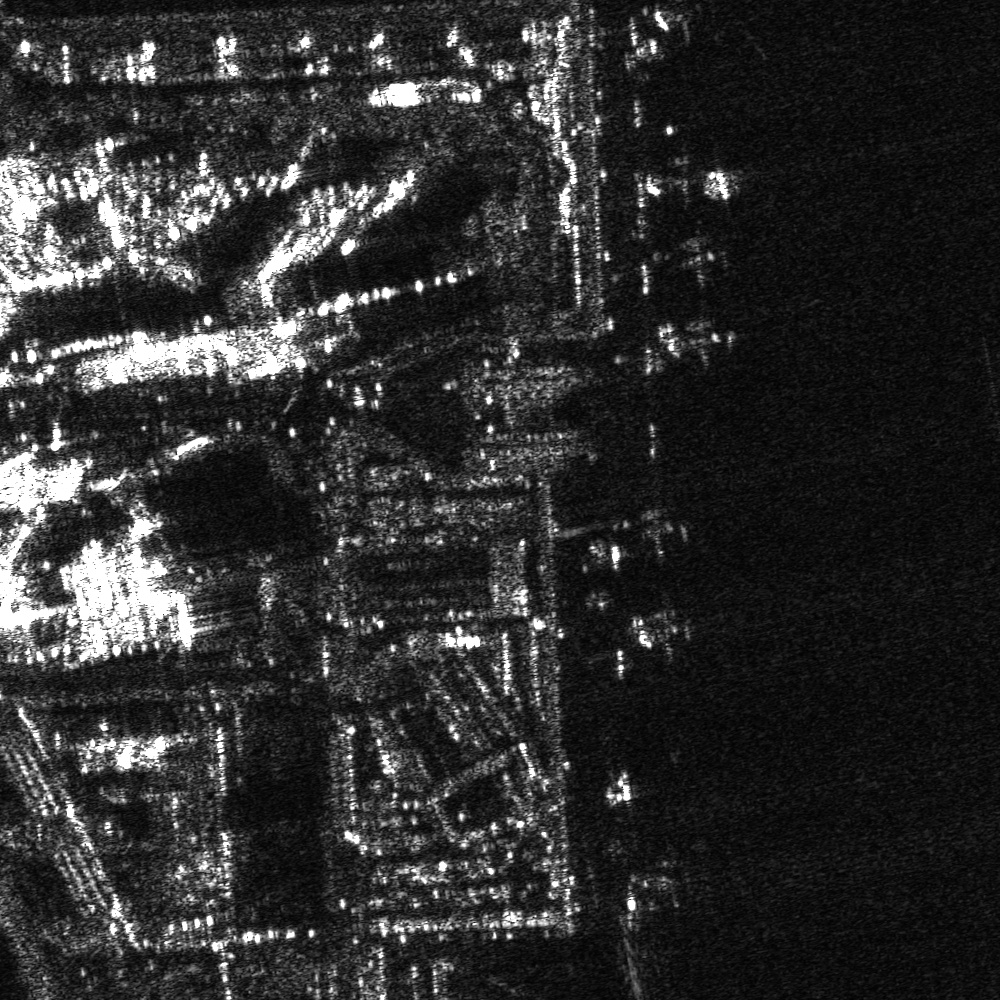A220: (647, 144, 745, 210), (659, 306, 748, 373), (621, 601, 705, 665), (626, 495, 700, 564), (624, 846, 698, 913), (662, 232, 739, 293), (643, 3, 694, 61)
